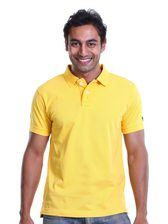clothoes: (23, 62, 150, 220)
